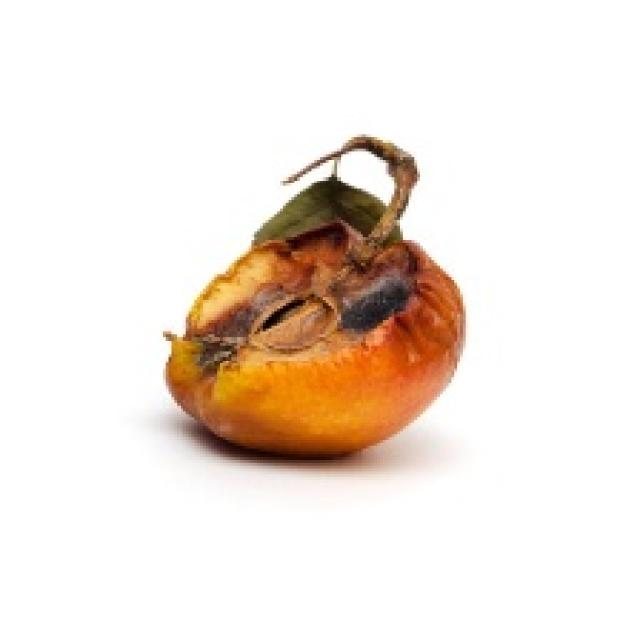rotten_apple: (168, 181, 466, 455)
